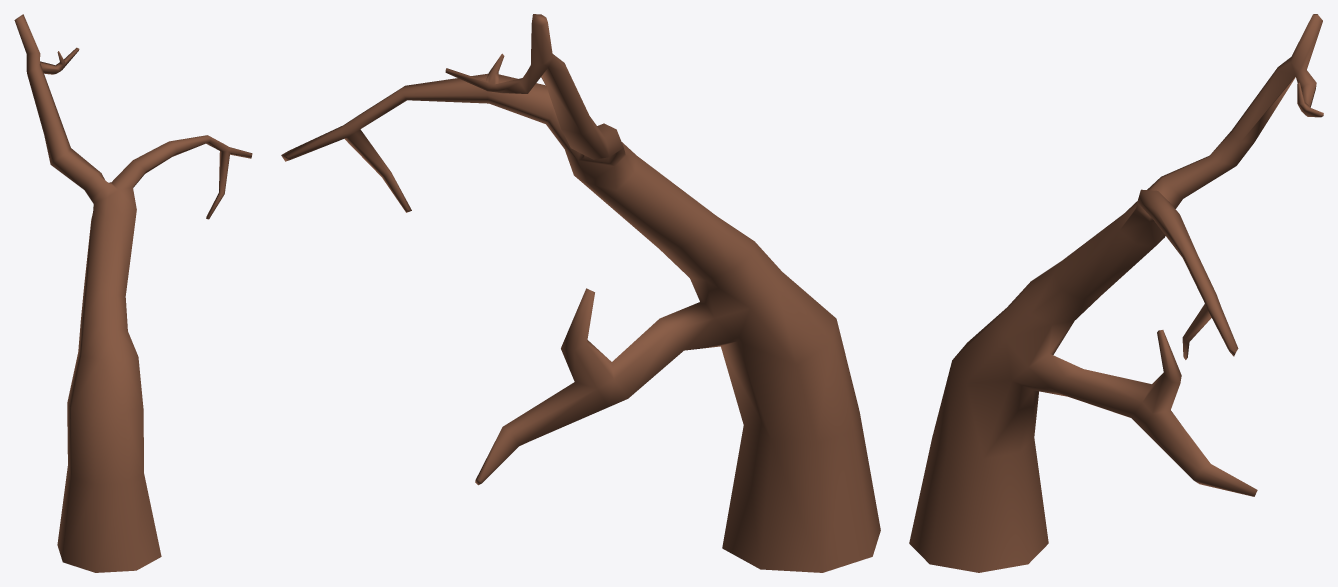
Rendered from Arvore_8.fbx.
3 renders of one model, left to right at view 1: azimuth 30°, elevation 25°; view 2: azimuth 150°, elevation 25°; view 3: azimuth 270°, elevation 25°, orthographic. The views are drawn at different scales.
Parts seen in each view (by area): view 1: Arvore_8; view 2: Arvore_8; view 3: Arvore_8.
Part boxes in pixels (<box>): Arvore_8: <box>14,14,252,572</box>; Arvore_8: <box>281,14,880,572</box>; Arvore_8: <box>909,14,1323,572</box>.
Size of the model in its own units: 4.22 by 4.4 by 6.25.
